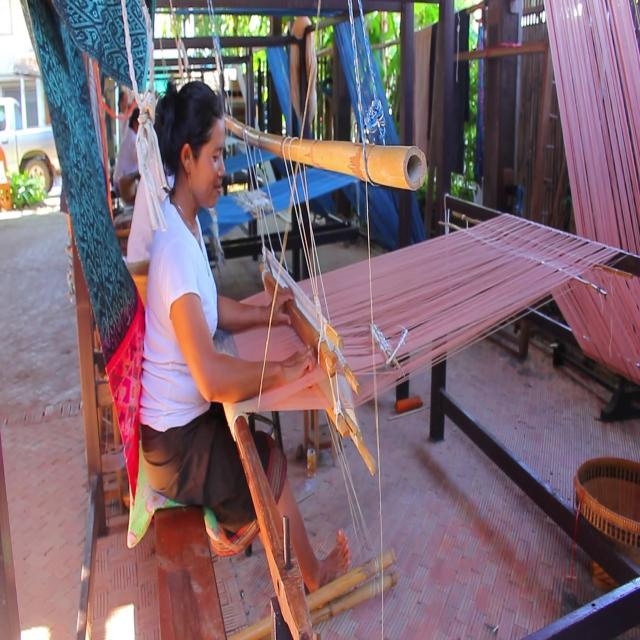not-gloved: (281, 345, 316, 384), (268, 285, 294, 329)
